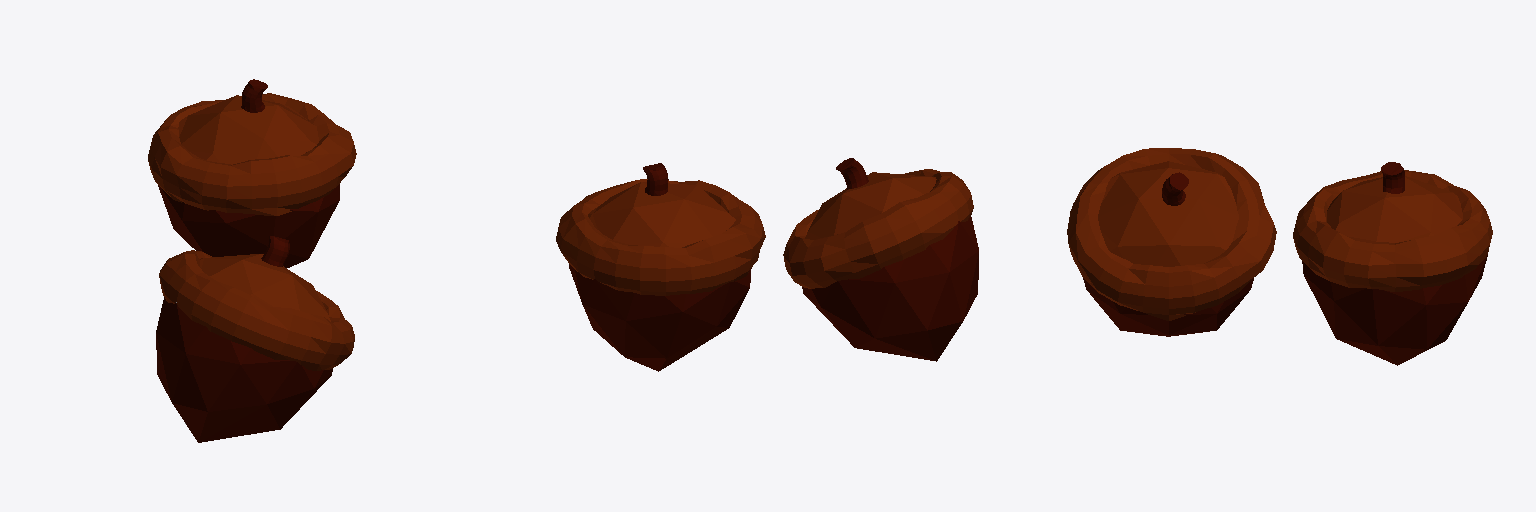
File: Hazenult_254.obj
3 views of the same model, side by side, from view 1: azimuth 30°, elevation 25°; view 2: azimuth 150°, elevation 25°; view 3: azimuth 270°, elevation 25° (orthographic).
Visible parts, largest first — view 1: Line002, Line001; view 2: Line001, Line002; view 3: Line002, Line001.
Boxes of the visible parts, box(x1,y1,x2,y2) form: Line002: box(156, 236, 354, 442); Line001: box(148, 79, 356, 267); Line001: box(556, 163, 765, 371); Line002: box(783, 158, 978, 361); Line002: box(1067, 148, 1276, 336); Line001: box(1293, 162, 1492, 365).
Bounding box in the file's own units: 44.53 × 35.88 × 58.39.